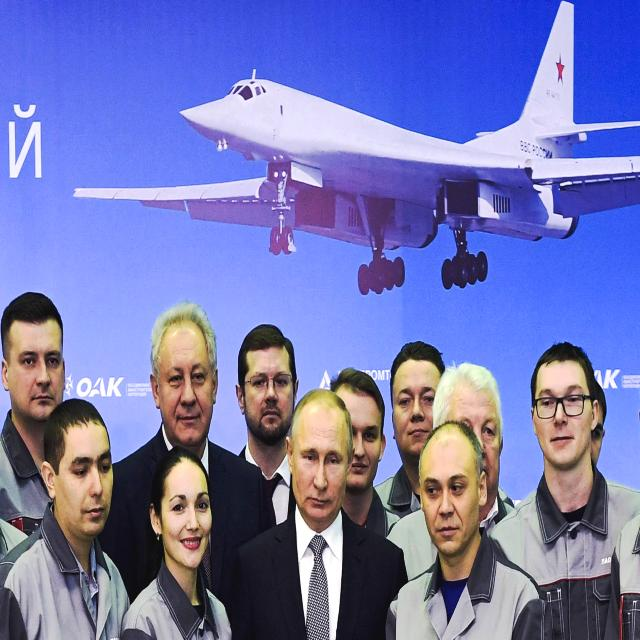Aircraft: (71, 3, 640, 304)
